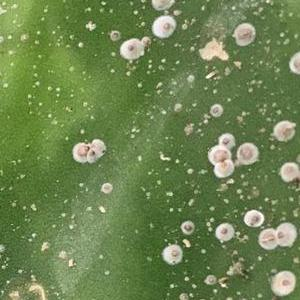Femea: (117, 38, 139, 59), (276, 225, 297, 247), (233, 28, 256, 43), (246, 213, 266, 228), (72, 141, 86, 162), (277, 275, 291, 294), (241, 146, 256, 163), (259, 231, 274, 247), (221, 225, 235, 242), (153, 22, 174, 33), (166, 246, 180, 262), (289, 52, 299, 72), (208, 105, 221, 118), (219, 135, 234, 146), (89, 138, 102, 150), (87, 149, 97, 163), (180, 221, 192, 229)
Linfa: (182, 122, 206, 137), (245, 79, 266, 93), (139, 182, 150, 198), (158, 151, 171, 164), (95, 203, 108, 214), (126, 126, 139, 137), (172, 101, 184, 112), (180, 236, 190, 249), (32, 79, 43, 90), (257, 106, 267, 116), (77, 125, 86, 136), (74, 40, 84, 49), (185, 166, 193, 177), (146, 57, 151, 74), (220, 196, 230, 204), (238, 109, 248, 117), (154, 176, 161, 187), (233, 114, 244, 121), (164, 190, 174, 197), (232, 60, 242, 67), (53, 85, 61, 93), (173, 158, 182, 165), (153, 81, 162, 88), (276, 31, 286, 37), (208, 206, 217, 212), (235, 194, 245, 199), (45, 84, 52, 91), (198, 168, 205, 175), (270, 100, 277, 107), (185, 200, 194, 205), (273, 109, 282, 114), (208, 216, 215, 222), (203, 220, 210, 226), (136, 82, 143, 88), (125, 70, 132, 76), (262, 195, 269, 201), (159, 56, 165, 63), (287, 196, 295, 201), (235, 188, 241, 194), (167, 205, 172, 212), (176, 207, 182, 212), (205, 228, 212, 232), (109, 68, 116, 72)
Macho: (201, 71, 217, 80)
